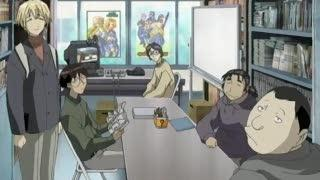person: (7, 1, 59, 177), (236, 88, 320, 180), (61, 68, 130, 171), (194, 68, 264, 161), (142, 46, 179, 104)
